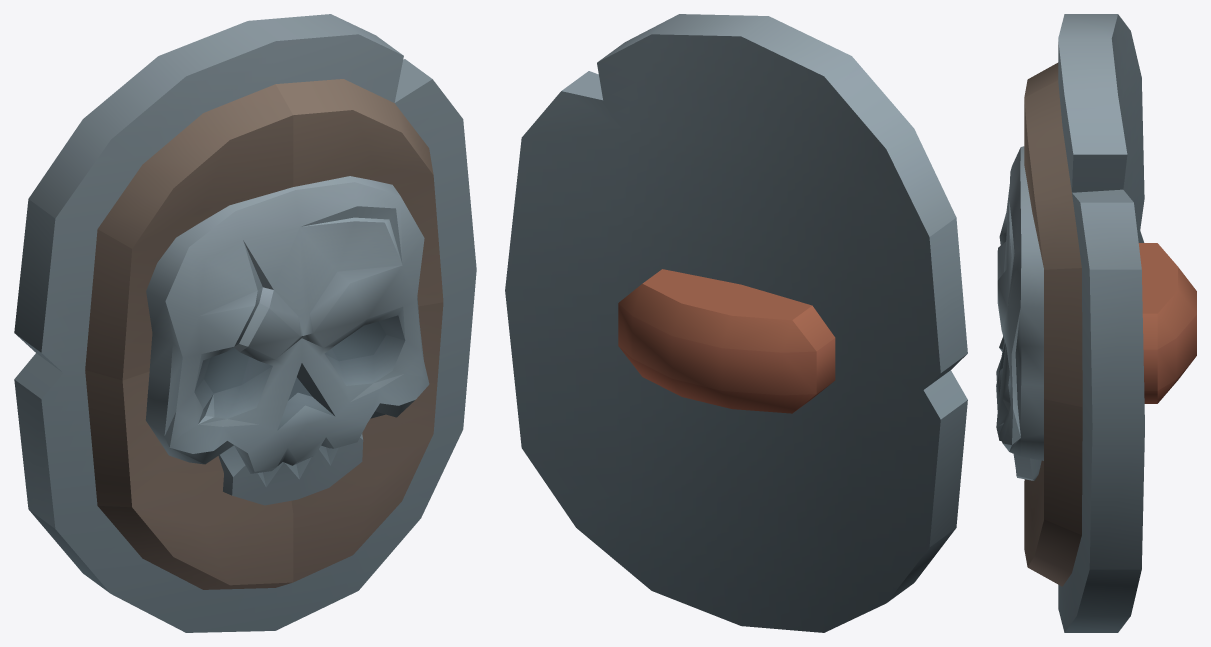
File: Skeleton_Shield_Large_A.glb
3 renders of one model, left to right at view 1: azimuth 30°, elevation 25°; view 2: azimuth 150°, elevation 25°; view 3: azimuth 270°, elevation 25°, orthographic. The views are drawn at different scales.
Visible parts, largest first — view 1: Skeleton_Shield_Large_A; view 2: Skeleton_Shield_Large_A; view 3: Skeleton_Shield_Large_A.
Part boxes in pixels (<box>): Skeleton_Shield_Large_A: <box>14,14,476,632</box>; Skeleton_Shield_Large_A: <box>505,14,967,632</box>; Skeleton_Shield_Large_A: <box>996,14,1196,632</box>.
Bounding box in the file's own units: 0.8771 × 1.13 × 0.3625.
Materials: 1 (1 with a texture image).
